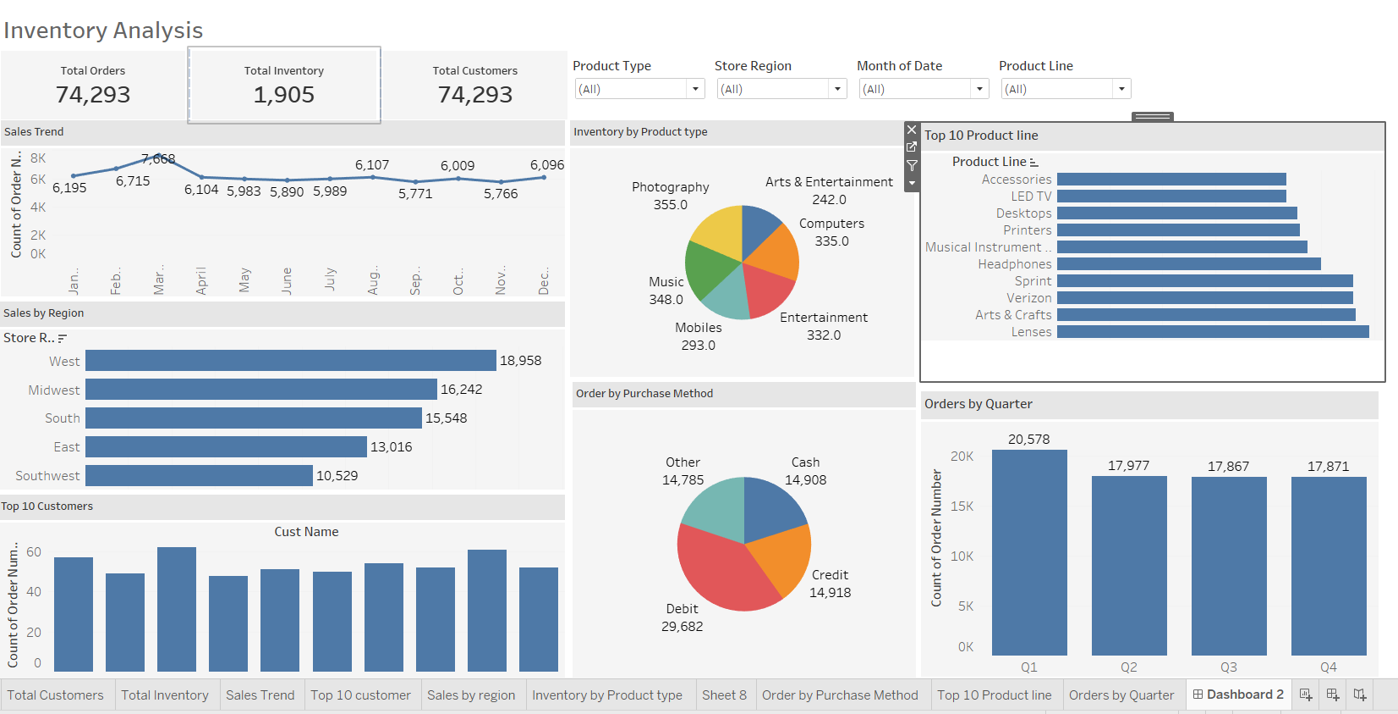

The dashboard page shown, as its layout file describes it:
{"tool":"tableau","page":{"name":"Dashboard 2","canvas":[1000,1000],"units":"permille","ordinal":0},"visuals":[{"type":"text","box":[1.7,18.6,170.6,50.7]},{"type":"worksheet","title":"Total orders","mark":"Automatic","box":[0,71,136.5,111.5]},{"type":"worksheet","title":"Total Inventory","mark":"Automatic","box":[136.5,71,136.5,111.5]},{"type":"worksheet","title":"Total Customers","mark":"Automatic","box":[273,71,136.5,111.5]},{"type":"filter","title":"Inventory by Product type","param":"[federated.0nj7fcr02gxmoc18shbrl0mrl0jv].[none:Product Type:nk]","box":[407.8,79.4,145.2,94.6]},{"type":"filter","title":"Sales by region","param":"[federated.14871dp0t4tr5m15560j702rt6v7].[none:Store Region:nk]","box":[553,79.4,145.2,94.6]},{"type":"filter","title":"Sales Trend","param":"[federated.14871dp0t4tr5m15560j702rt6v7].[mn:Date:ok]","box":[698.2,79.4,145.2,94.6]},{"type":"filter","title":"Top 10 Product line","param":"[federated.0nj7fcr02gxmoc18shbrl0mrl0jv].[none:Product Line:nk]","box":[843.5,79.4,145.3,94.6]},{"type":"worksheet","title":"Sales Trend","mark":"Automatic","rows":["Order Number"],"cols":["Date"],"box":[2.6,179.1,402.6,260.1]},{"type":"worksheet","title":"Inventory by Product type","mark":"Pie","box":[408.7,179.1,245.9,378.4]},{"type":"worksheet","title":"Top 10 Product line","mark":"Automatic","rows":["Product Line"],"cols":["Quantity on Hand"],"box":[658.9,182.4,330.7,380.1]},{"type":"worksheet","title":"Sales by region","mark":"Automatic","rows":["Store Region"],"cols":["Order Number"],"box":[1.7,445.9,403.5,277]},{"type":"worksheet","title":"Order by Purchase Method","mark":"Pie","box":[410.4,564.2,245,437.5]},{"type":"worksheet","title":"Orders by Quarter","mark":"Bar","rows":["Order Number"],"cols":["Date"],"box":[658.9,577.7,326.4,420.6]}]}

Visuals, with their boxes on the dashboard's canvas, which has no fixed pixel size, in thousandths of its width and height (x1, y1, x2, y2). These are canvas units, not pixel positions in the 1398x714 screenshot, which may show the page scaled, cropped or inside an application window:
text: box(2, 19, 172, 69)
"Total orders" worksheet: box(0, 71, 136, 182)
"Total Inventory" worksheet: box(136, 71, 273, 182)
"Total Customers" worksheet: box(273, 71, 410, 182)
"Inventory by Product type" filter: box(408, 79, 553, 174)
"Sales by region" filter: box(553, 79, 698, 174)
"Sales Trend" filter: box(698, 79, 843, 174)
"Top 10 Product line" filter: box(844, 79, 989, 174)
"Sales Trend" worksheet: box(3, 179, 405, 439)
"Inventory by Product type" worksheet (Pie marks): box(409, 179, 655, 558)
"Top 10 Product line" worksheet: box(659, 182, 990, 562)
"Sales by region" worksheet: box(2, 446, 405, 723)
"Order by Purchase Method" worksheet (Pie marks): box(410, 564, 655, 1002)
"Orders by Quarter" worksheet (Bar marks): box(659, 578, 985, 998)
